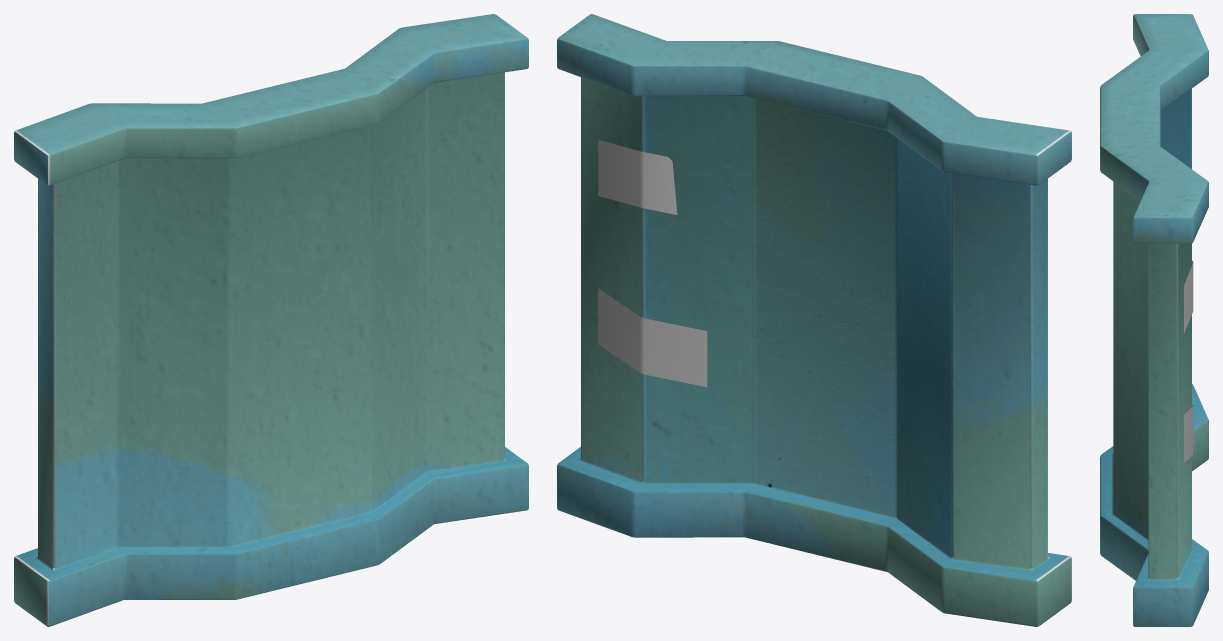
Rendered from TOMB_WALL_3_003.obj.
3 renders of one model, left to right at view 1: azimuth 30°, elevation 25°; view 2: azimuth 150°, elevation 25°; view 3: azimuth 270°, elevation 25°, orthographic. The views are drawn at different scales.
Parts seen in each view (by area): view 1: TOMB_WALL_3_003; view 2: TOMB_WALL_3_003; view 3: TOMB_WALL_3_003.
Boxes of the visible parts, x1=… form: TOMB_WALL_3_003: x1=14, y1=14, x2=528, y2=626; TOMB_WALL_3_003: x1=557, y1=14, x2=1071, y2=626; TOMB_WALL_3_003: x1=1100, y1=14, x2=1208, y2=626.
Size of the model in its own units: 3.2 by 3 by 0.7206.
